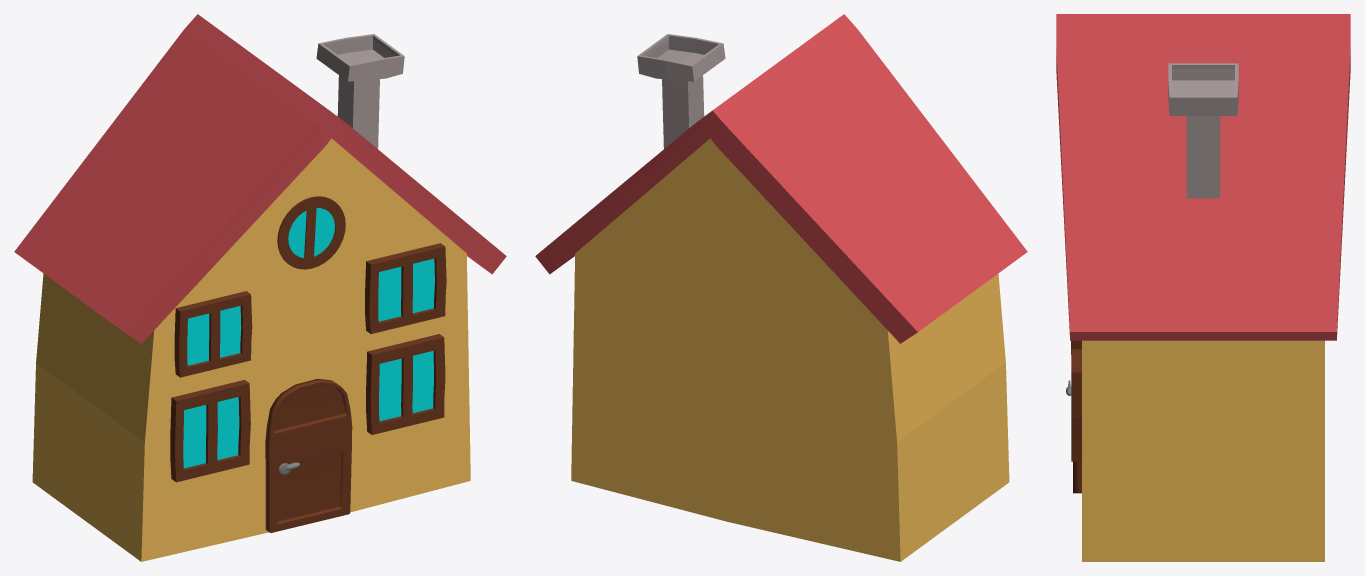
File: casa2.fbx
The picture shows the model from 3 angles, left to right: view 1: azimuth 30°, elevation 25°; view 2: azimuth 150°, elevation 25°; view 3: azimuth 270°, elevation 25°; orthographic projection. The views are drawn at different scales.
Parts seen in each view (by area): view 1: house, top roof, door, window 4, window 1, window 2, window 3, window 5, chimney top, chimney bottom; view 2: house, top roof, chimney top, chimney bottom; view 3: top roof, house, chimney top, chimney bottom, window 1.
Boxes of the visible parts, box(x1,y1,x2,y2) form: house: box(32, 138, 470, 561); top roof: box(14, 14, 506, 343); door: box(265, 378, 352, 532); window 4: box(170, 379, 250, 482); window 1: box(366, 334, 445, 434); window 2: box(365, 243, 446, 333); window 3: box(174, 291, 252, 377); window 5: box(277, 196, 345, 269); chimney top: box(316, 34, 404, 81); chimney bottom: box(337, 75, 379, 148); house: box(571, 138, 1009, 561); top roof: box(535, 14, 1027, 343); chimney top: box(637, 34, 725, 81); chimney bottom: box(662, 75, 704, 148); top roof: box(1056, 14, 1350, 340); house: box(1082, 340, 1324, 561); chimney top: box(1168, 63, 1238, 115); chimney bottom: box(1186, 116, 1220, 198); window 1: box(1071, 349, 1081, 461).
Bounding box in the file's own units: 1118 × 1184 × 675.
